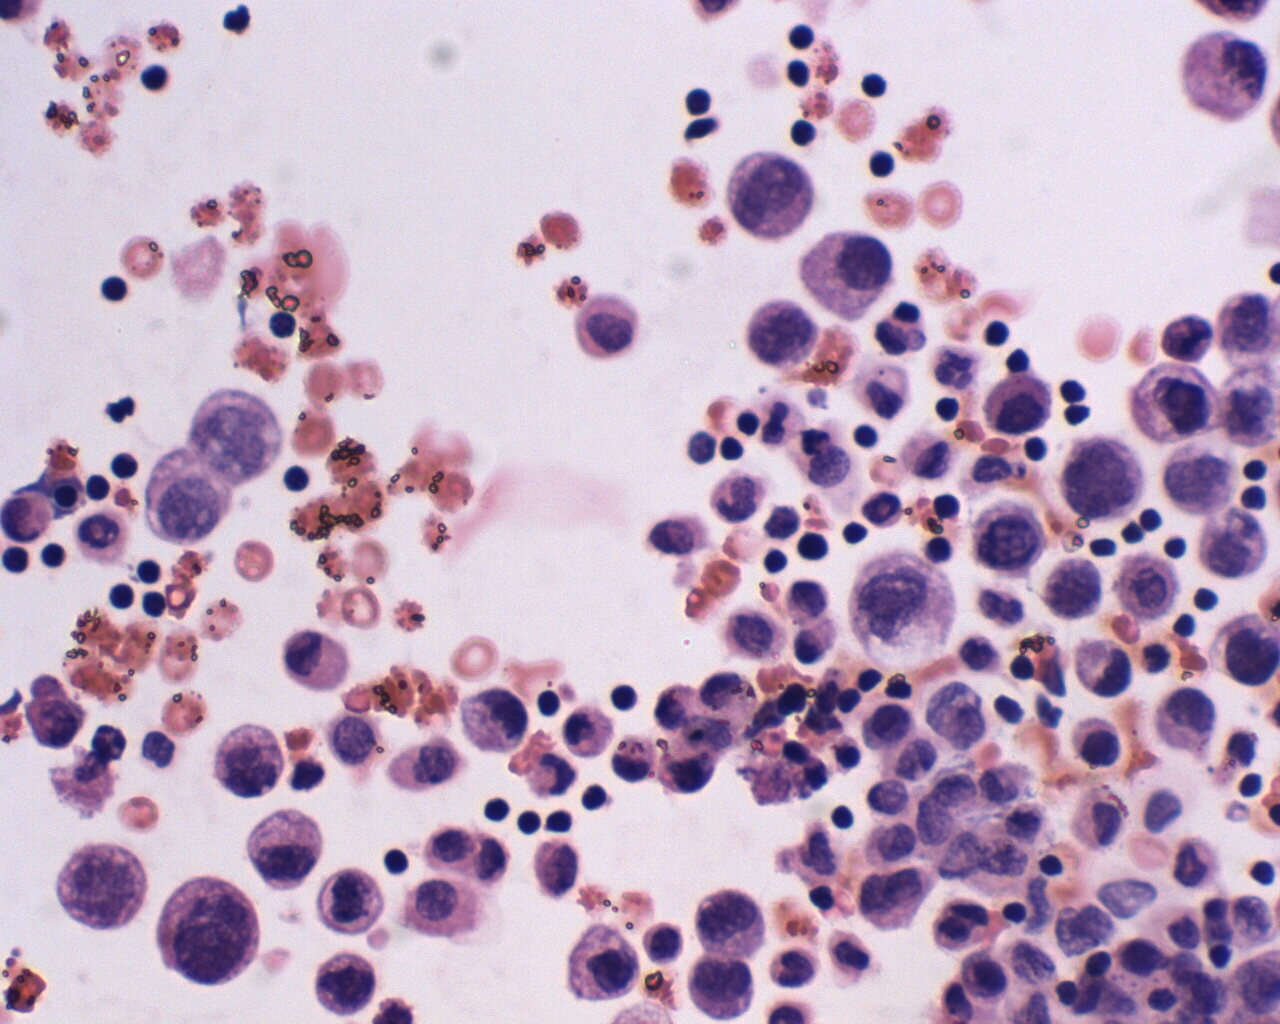ab: (846, 544, 959, 665), (146, 874, 262, 987), (49, 840, 150, 936), (144, 444, 237, 542), (723, 147, 815, 243), (1133, 360, 1224, 449), (1058, 434, 1145, 526), (1161, 437, 1246, 519), (313, 863, 389, 941), (690, 886, 774, 953), (968, 497, 1044, 572), (307, 945, 380, 1021), (1111, 549, 1181, 620)
lymph: (478, 792, 520, 829), (96, 267, 130, 308)
meso: (572, 293, 639, 362)
